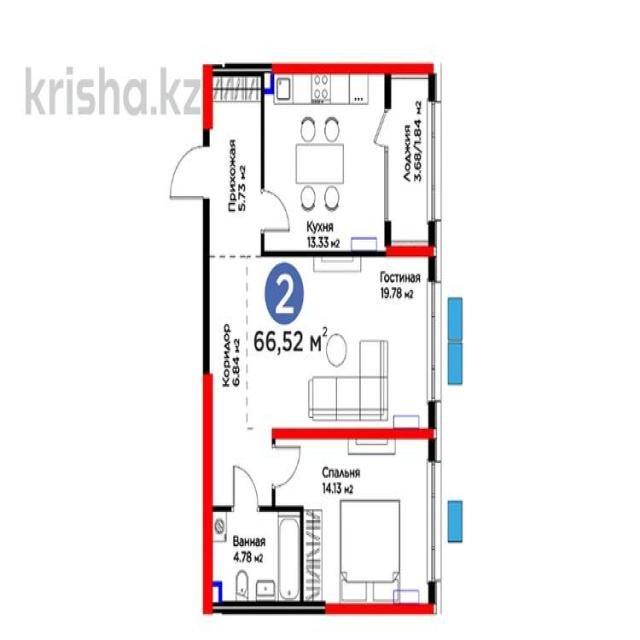balcony: (388, 72, 432, 250)
bathroom: (205, 509, 303, 611)
hallway: (205, 253, 277, 510), (205, 66, 262, 256)
kitchen: (262, 65, 388, 252)
living_room: (274, 252, 434, 434), (274, 431, 434, 611)
